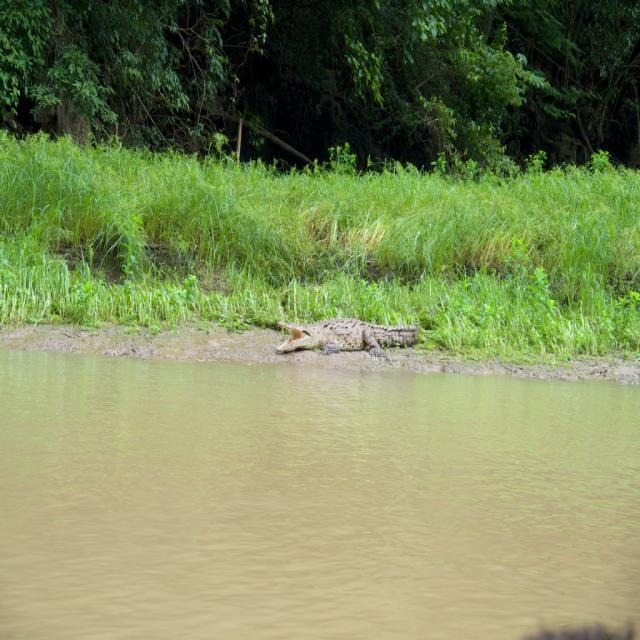crocodile: (250, 309, 428, 371)
